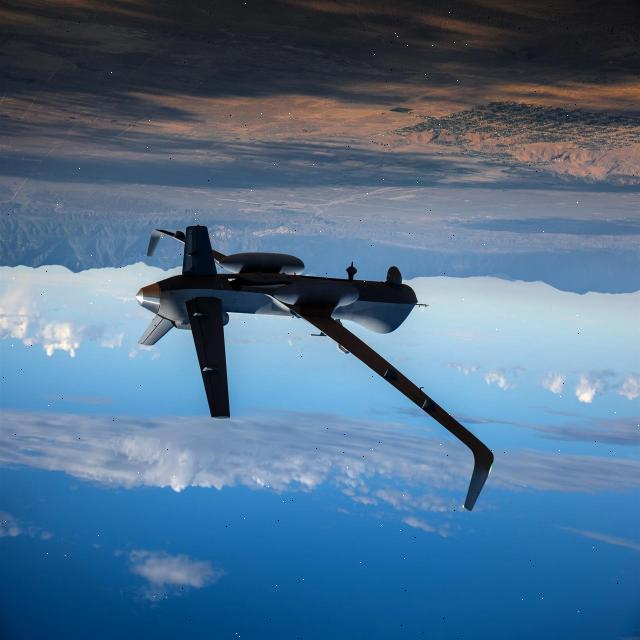MQ9: (89, 190, 524, 571)
